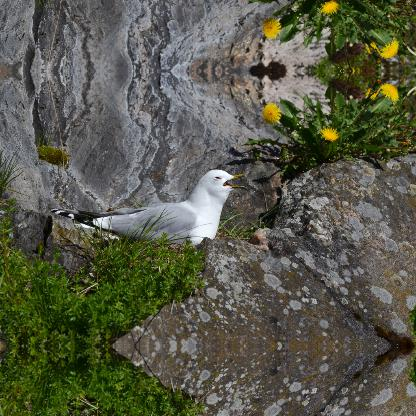Bird: (48, 166, 254, 252)
